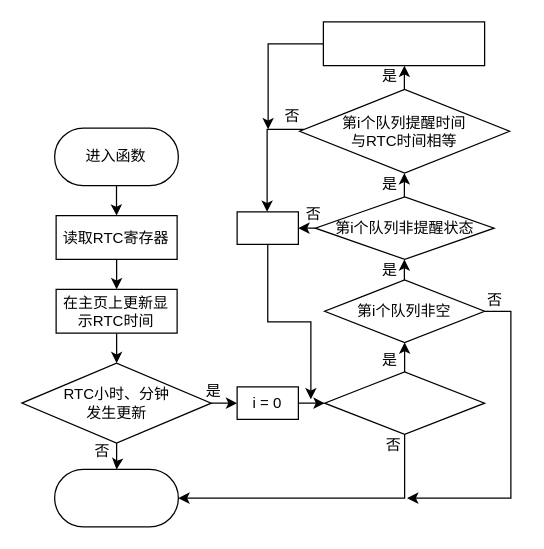
The diagram is 544 pixels wide and 549 high, and some of its shapes have lost their labels. The centre of each missing label's shape, as x and y in pixels:
i ++: pixel 267 227
i < 队列数组长度: pixel 404 402
标记队列状态为提醒状态，服药提醒标志置1: pixel 403 43
退出函数: pixel 115 497
